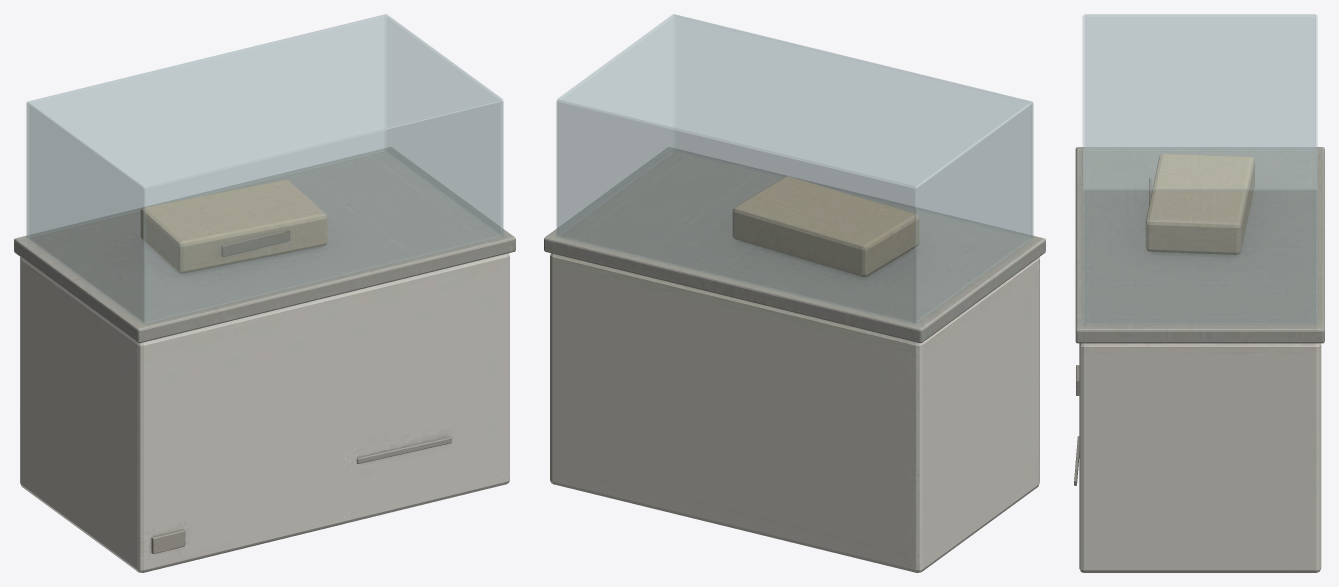
File: dressing-display-case.glb
The picture shows the model from 3 angles, left to right: view 1: azimuth 30°, elevation 25°; view 2: azimuth 150°, elevation 25°; view 3: azimuth 270°, elevation 25°; orthographic projection.
Parts seen in each view (by area): view 1: case-baked, case-glass-front, case-glass-back, case-glass-top, case-glass-left, case-glass-right; view 2: case-baked, case-glass-back, case-glass-front, case-glass-top, case-glass-left, case-glass-right; view 3: case-baked, case-glass-top, case-glass-right, case-glass-left, case-glass-back, case-glass-front.
Part boxes in pixels (x1=…): case-baked: x1=14, y1=147, x2=515, y2=572; case-glass-front: x1=143, y1=100, x2=503, y2=323; case-glass-back: x1=26, y1=15, x2=385, y2=238; case-glass-top: x1=27, y1=14, x2=502, y2=187; case-glass-left: x1=27, y1=103, x2=145, y2=323; case-glass-right: x1=385, y1=15, x2=502, y2=235; case-baked: x1=544, y1=147, x2=1045, y2=572; case-glass-back: x1=556, y1=100, x2=916, y2=323; case-glass-front: x1=674, y1=15, x2=1033, y2=238; case-glass-top: x1=557, y1=14, x2=1032, y2=187; case-glass-left: x1=914, y1=103, x2=1032, y2=323; case-glass-right: x1=557, y1=15, x2=674, y2=236; case-baked: x1=1074, y1=147, x2=1324, y2=572; case-glass-top: x1=1085, y1=14, x2=1315, y2=190; case-glass-right: x1=1085, y1=189, x2=1315, y2=324; case-glass-left: x1=1085, y1=15, x2=1314, y2=150; case-glass-back: x1=1315, y1=15, x2=1317, y2=324; case-glass-front: x1=1083, y1=15, x2=1085, y2=324.
Bounding box in the file's own units: 1.22 × 1.19 × 0.7041.
Materials: 2 (1 with a texture image).
